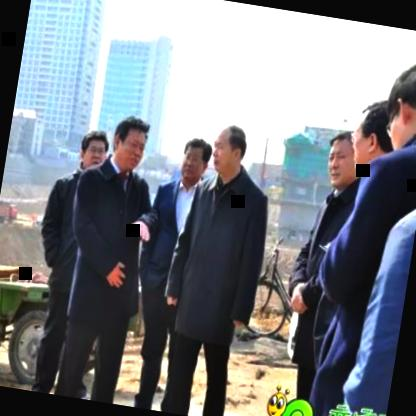head: (346, 90, 396, 172), (314, 124, 364, 196), (382, 56, 416, 155), (106, 108, 154, 173), (206, 118, 252, 182), (174, 132, 216, 192), (401, 32, 416, 194), (74, 127, 114, 178)
